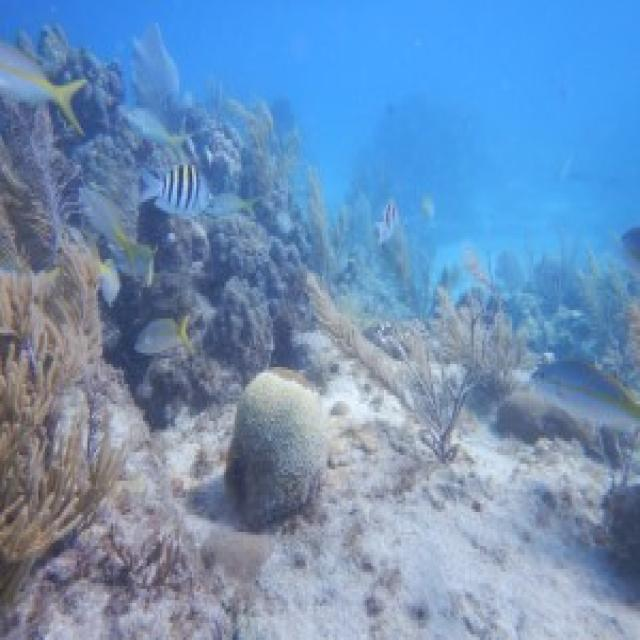Healthy: (1, 240, 118, 601), (374, 291, 526, 459), (227, 374, 325, 527), (216, 200, 278, 282), (1, 160, 48, 234)
